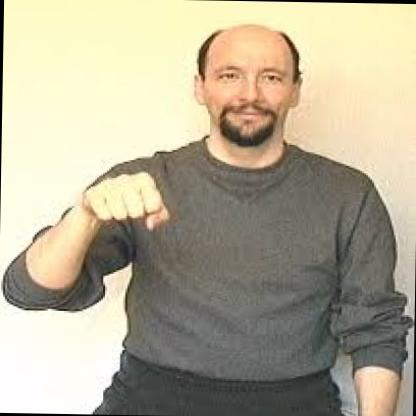yes: (72, 148, 184, 243)
